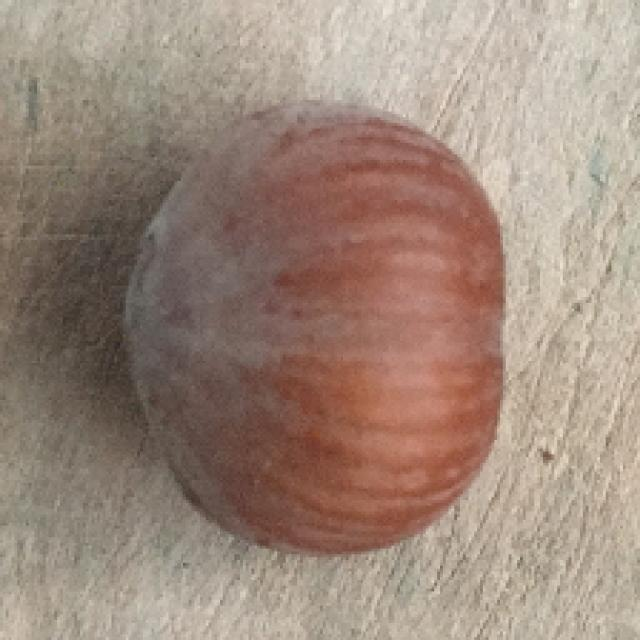qualityHazelnut: (112, 102, 512, 559)
